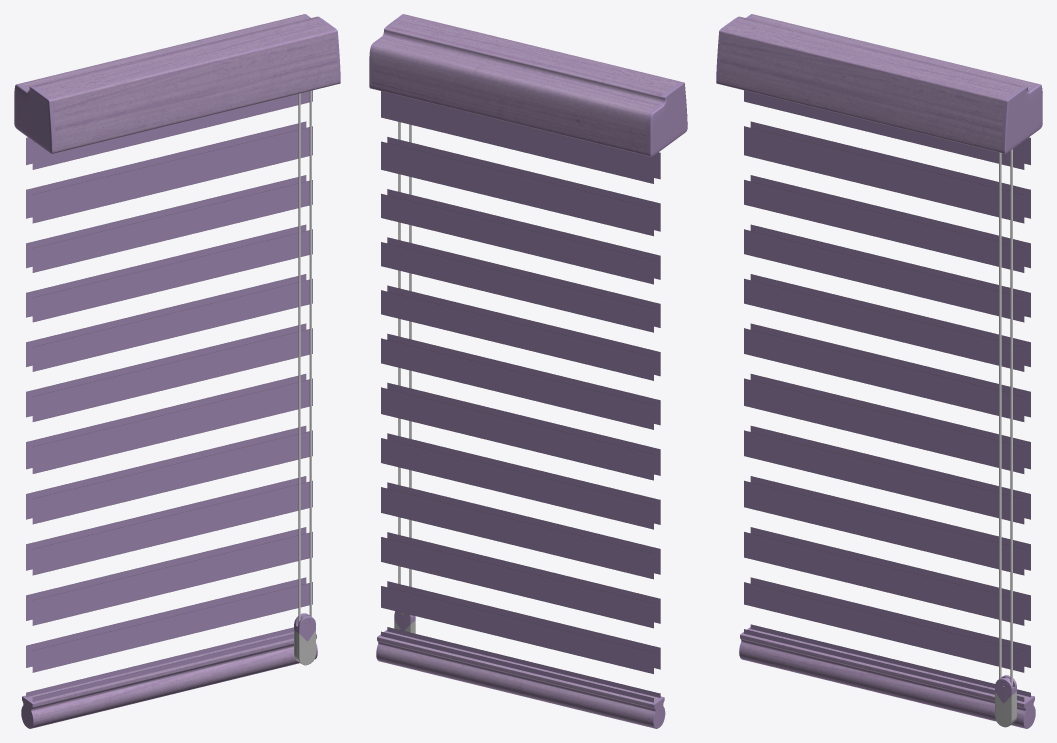
File: curtain_02_07.001.fbx
3 renders of one model, left to right at view 1: azimuth 30°, elevation 25°; view 2: azimuth 150°, elevation 25°; view 3: azimuth 330°, elevation 25°, orthographic. The views are drawn at different scales.
Visible parts, largest first — view 1: curtain_02_07.001; view 2: curtain_02_07.001; view 3: curtain_02_07.001.
Part boxes in pixels (x1,y1,x2,y2): curtain_02_07.001: (14, 14, 340, 728); curtain_02_07.001: (369, 14, 687, 728); curtain_02_07.001: (716, 14, 1042, 728).
Bounding box in the file's own units: 51.11 × 109 × 11.73.
Materials: 1 (1 with a texture image).
